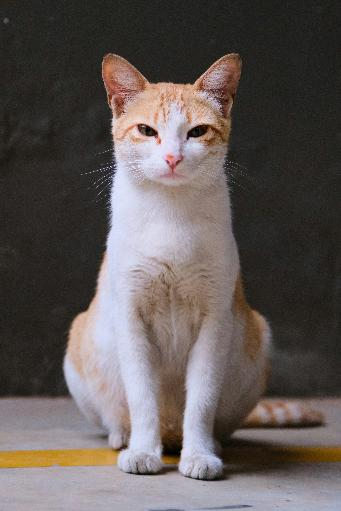cat_sitting: (63, 54, 271, 481)
